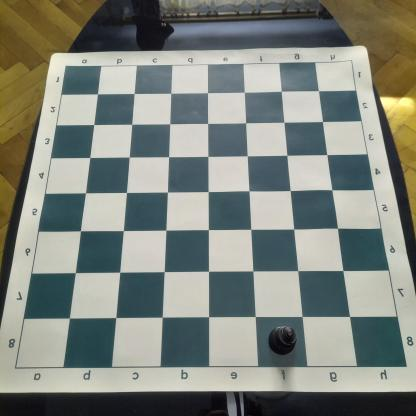black-bishop: (266, 324, 298, 356)
